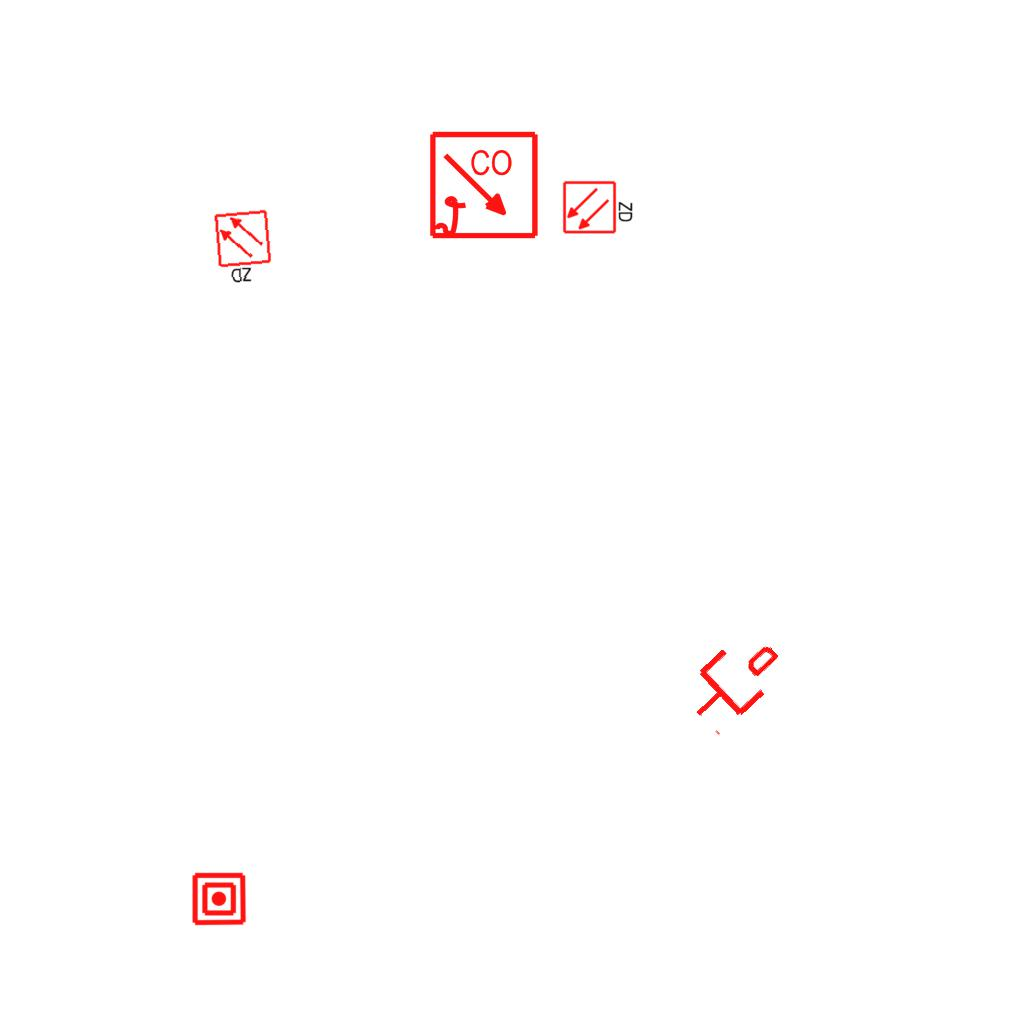Datenanschluss_einfach: (673, 621, 794, 741)
NAM-Nichtautomatischer_Melder: (191, 871, 247, 927)
ROA_Rauchmelder_optisch_mit_Signalgeber_(Sockelsirene): (428, 130, 541, 243)
ZD_Melder_in_Zwischendecke_mit_Revisionsoeffnung_mind_40_x_40_cm: (212, 208, 277, 288), (562, 178, 636, 235)
